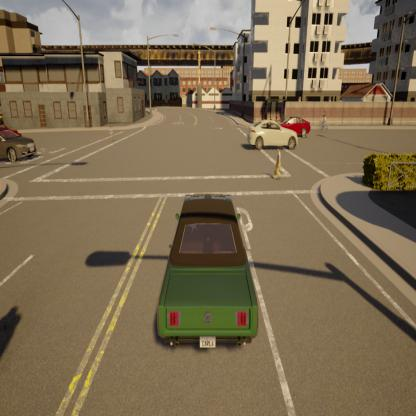Cars: (149, 188, 263, 360), (248, 117, 302, 153), (0, 123, 41, 164), (272, 111, 316, 136), (0, 108, 24, 151)
Pedestrian: (270, 142, 285, 183)
